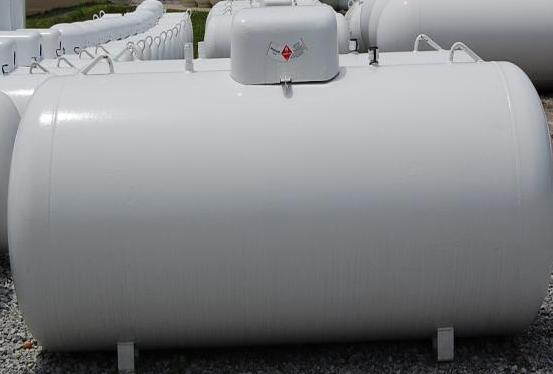cylinder: (1, 0, 553, 374)
